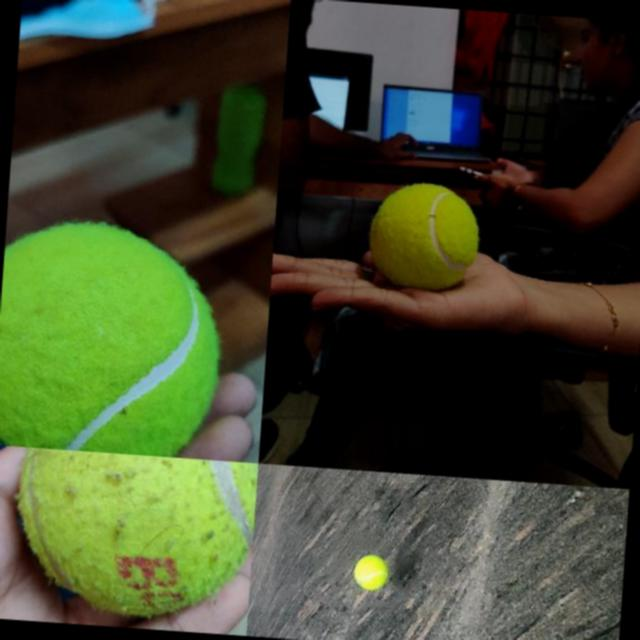tennis-ball: (0, 217, 224, 458), (10, 446, 257, 624), (366, 180, 480, 290), (352, 554, 390, 591)
